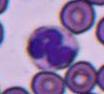N: (26, 26, 78, 70)
